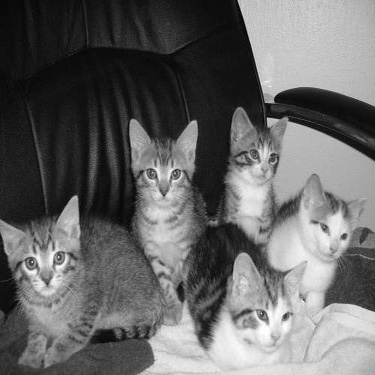cat: (1, 193, 164, 368), (125, 113, 214, 328), (180, 222, 311, 367), (266, 172, 367, 310), (226, 102, 291, 240)
